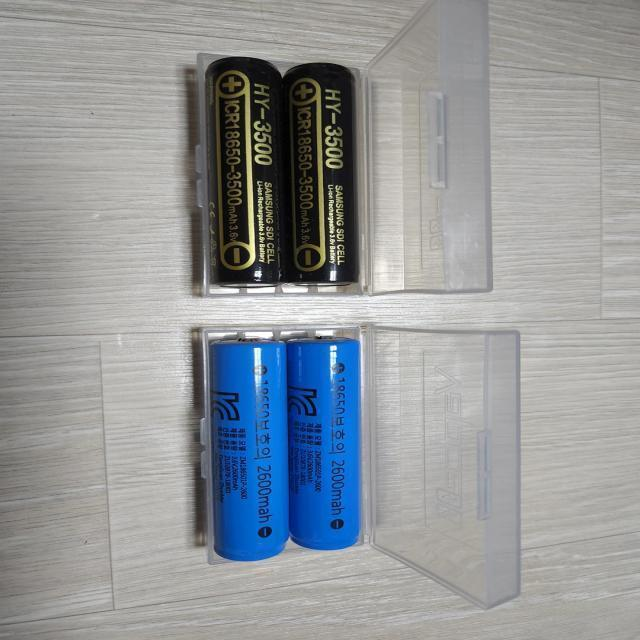Hazard: (205, 56, 284, 290), (283, 61, 362, 289), (211, 335, 289, 563), (287, 334, 363, 550)
